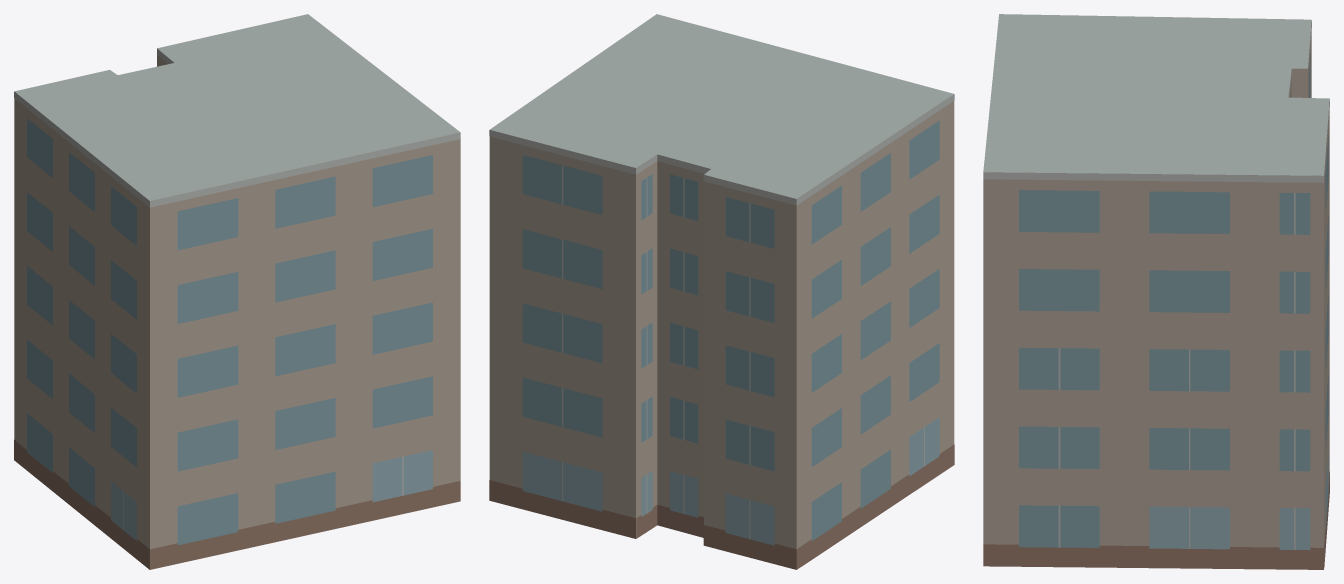
File: survey-upis-32661785.glb
3 views of the same model, side by side, from view 1: azimuth 30°, elevation 25°; view 2: azimuth 150°, elevation 25°; view 3: azimuth 270°, elevation 25° (orthographic). The views are drawn at different scales.
Parts seen in each view (by area): view 1: survey-upis-32661785.tmp; view 2: survey-upis-32661785.tmp; view 3: survey-upis-32661785.tmp.
Boxes of the visible parts, bbox=[...] form: survey-upis-32661785.tmp: bbox=[14, 14, 460, 569]; survey-upis-32661785.tmp: bbox=[489, 14, 954, 569]; survey-upis-32661785.tmp: bbox=[983, 14, 1329, 569].
Bounding box in the file's own units: 12.07 × 13.7 × 10.93.
